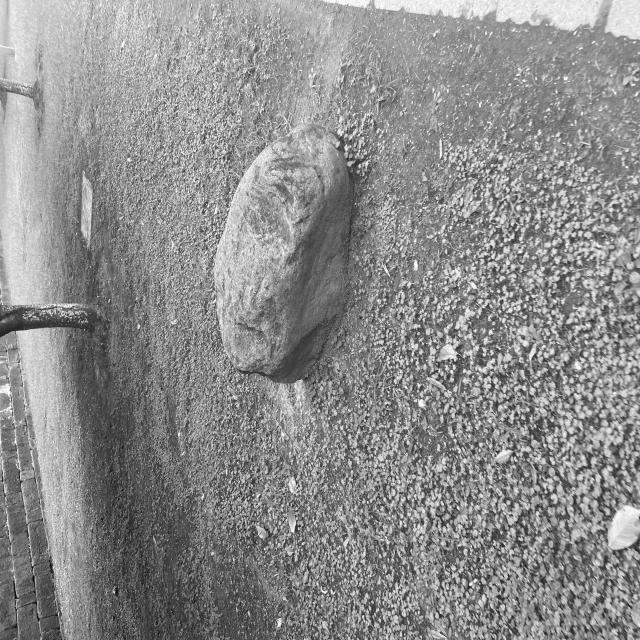Stone: (214, 124, 351, 382)
